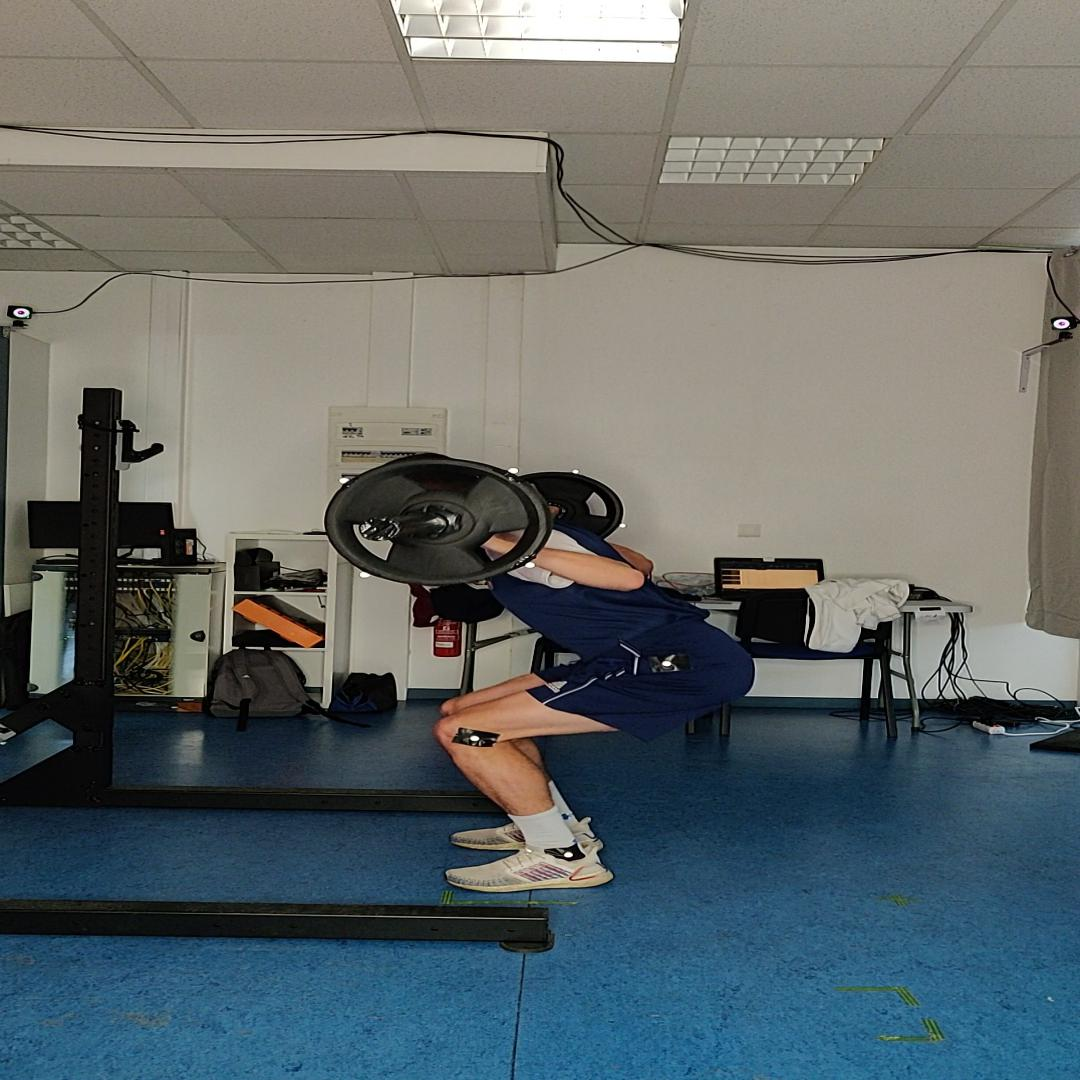Bar: (359, 518, 402, 542)
Barbell: (324, 458, 552, 586)
